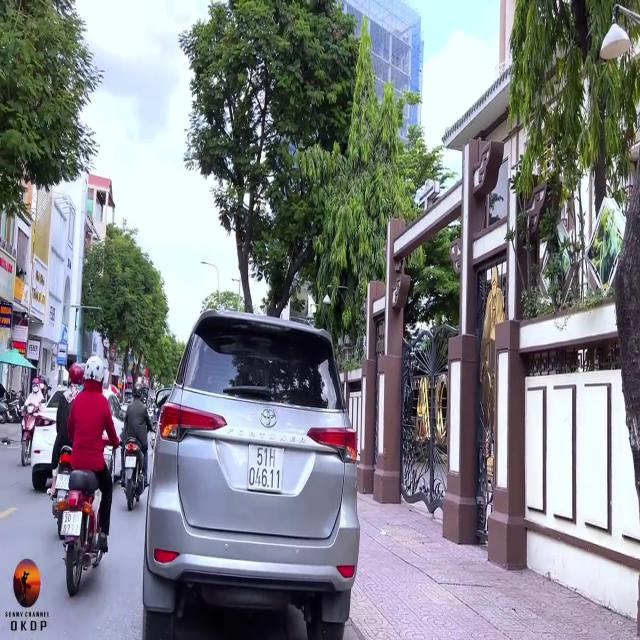bien_trang: (245, 442, 285, 497)
